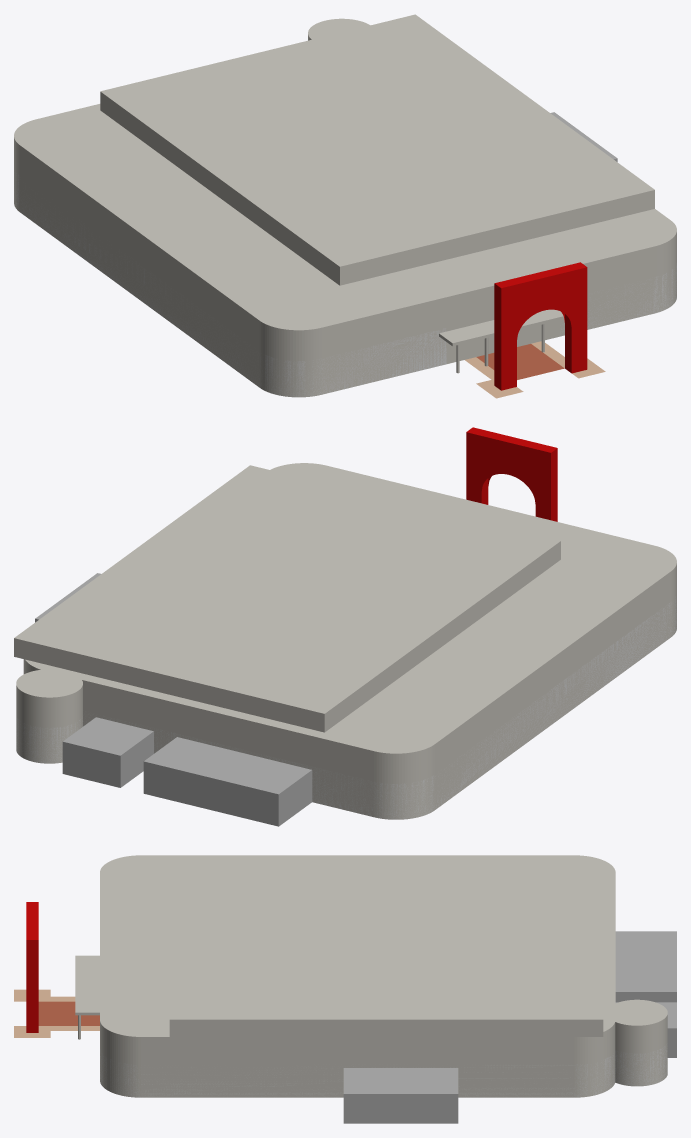
The model's file is P2-A-901_RevG_massing.obj.
3 renders of one model, top to bottom at view 1: azimuth 30°, elevation 25°; view 2: azimuth 150°, elevation 25°; view 3: azimuth 270°, elevation 25°, orthographic. The views are drawn at different scales.
Parts seen in each view (by area): view 1: exterior_arena_volume, exterior_building_ring, cutaway_ring_cut_0, exterior_portal_spandrel, exterior_portal_pier_w, exterior_portal_pier_e, cutaway_ring_cut_3, exterior_canopy, exterior_ground_walk_2, cutaway_ring_cut_4, exterior_st2_drum, exterior_ground_band_0 (+1 smaller); view 2: exterior_arena_volume, exterior_building_ring, exterior_storage_annex, cutaway_ring_cut_0, exterior_st2_drum, exterior_mech_elec_bay, exterior_portal_spandrel, exterior_portal_pier_w, exterior_portal_pier_e, cutaway_st2_drum_cut; view 3: exterior_arena_volume, exterior_building_ring, exterior_restroom_bumpout, exterior_st2_drum, exterior_storage_annex, cutaway_ring_cut_2, exterior_canopy, exterior_portal_pier_e, exterior_ground_walk_2, cutaway_st2_drum_cut, exterior_mech_elec_bay, exterior_ground_band_1 (+1 smaller).
Part boxes in pixels (<box>): exterior_arena_volume: <box>100,14,654,285</box>; exterior_building_ring: <box>14,104,676,397</box>; cutaway_ring_cut_0: <box>14,172,391,396</box>; exterior_portal_spandrel: <box>510,266,571,339</box>; exterior_portal_pier_w: <box>494,279,516,390</box>; exterior_portal_pier_e: <box>565,262,587,373</box>; cutaway_ring_cut_3: <box>392,328,446,377</box>; exterior_canopy: <box>439,309,564,346</box>; exterior_ground_walk_2: <box>476,344,564,379</box>; cutaway_ring_cut_4: <box>560,269,673,335</box>; exterior_st2_drum: <box>308,18,369,40</box>; exterior_ground_band_0: <box>465,357,523,398</box>; exterior_arena_volume: <box>14,465,560,732</box>; exterior_building_ring: <box>23,463,676,819</box>; exterior_storage_annex: <box>143,737,312,826</box>; cutaway_ring_cut_0: <box>304,596,676,819</box>; exterior_st2_drum: <box>16,670,82,763</box>; exterior_mech_elec_bay: <box>62,717,153,787</box>; exterior_portal_spandrel: <box>481,431,541,503</box>; exterior_portal_pier_w: <box>535,444,557,521</box>; exterior_portal_pier_e: <box>466,427,488,504</box>; cutaway_st2_drum_cut: <box>16,716,82,763</box>; exterior_arena_volume: <box>169,880,603,1036</box>; exterior_building_ring: <box>100,855,615,1097</box>; exterior_restroom_bumpout: <box>343,1068,458,1123</box>; exterior_st2_drum: <box>615,999,667,1086</box>; exterior_storage_annex: <box>615,931,676,1002</box>; cutaway_ring_cut_2: <box>110,1059,587,1097</box>; exterior_canopy: <box>75,955,99,1015</box>; exterior_portal_pier_e: <box>26,933,38,1032</box>; exterior_ground_walk_2: <box>38,1001,99,1025</box>; cutaway_st2_drum_cut: <box>615,1043,667,1086</box>; exterior_mech_elec_bay: <box>615,1002,676,1057</box>; exterior_ground_band_1: <box>14,1026,99,1037</box>.
Bounding box in the file's own units: 240 × 50 × 324.
